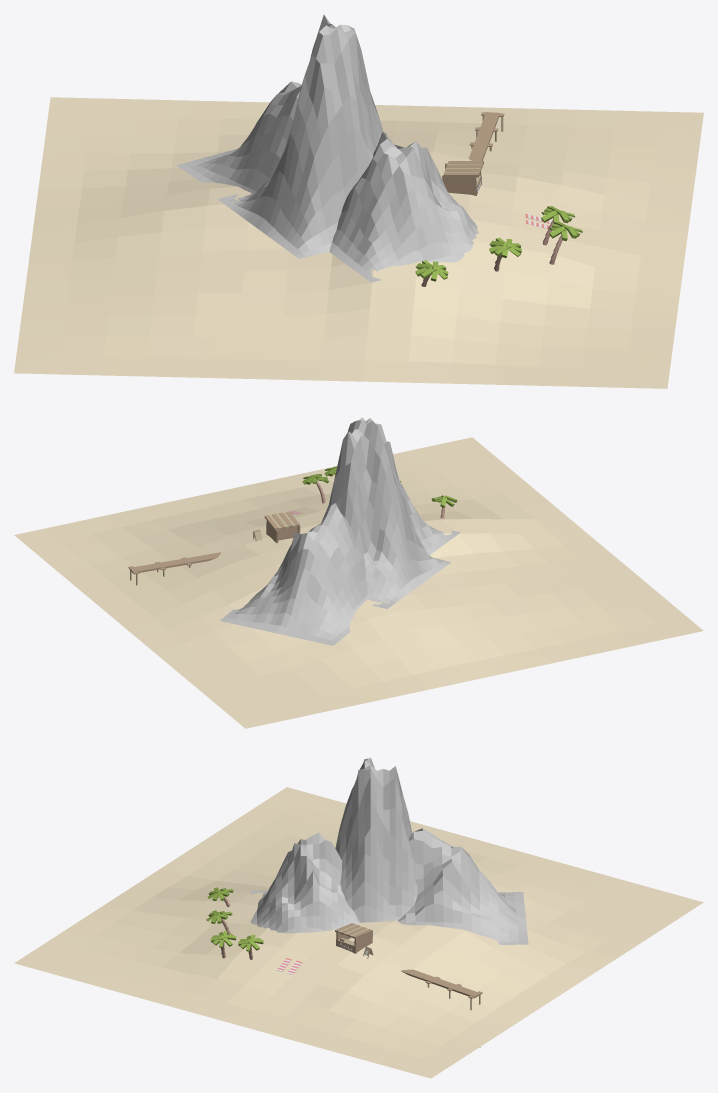
File: groud.glb
The picture shows the model from 3 angles, top to bottom: view 1: azimuth 30°, elevation 25°; view 2: azimuth 150°, elevation 25°; view 3: azimuth 270°, elevation 25°; orthographic projection. The views are drawn at different scales.
Visible parts, largest first — view 1: Landscape, Landscape_2, Landscape_1, Landscape_3, Cube_23; view 2: Landscape, Landscape_2, Landscape_3, Landscape_1, Cube_23; view 3: Landscape, Landscape_2, Landscape_3, Landscape_1, Cube_23.
Part boxes in pixels (x1,y1,x2,y2): Landscape: [14, 97, 703, 388]; Landscape_2: [217, 14, 382, 258]; Landscape_1: [329, 132, 478, 282]; Landscape_3: [176, 81, 301, 193]; Cube_23: [468, 112, 499, 160]; Landscape: [14, 437, 703, 728]; Landscape_2: [326, 417, 450, 608]; Landscape_3: [219, 503, 367, 645]; Landscape_1: [396, 471, 460, 555]; Cube_23: [129, 552, 220, 573]; Landscape: [14, 787, 703, 1078]; Landscape_2: [335, 757, 417, 922]; Landscape_3: [398, 828, 528, 944]; Landscape_1: [250, 832, 360, 933]; Cube_23: [400, 969, 480, 998].
Bounding box in the file's own units: 5.54 × 1.82 × 5.54.
